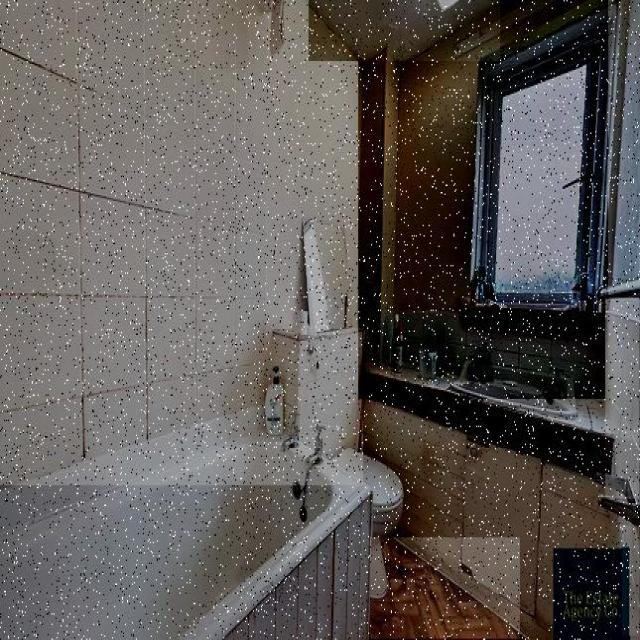Wall: (0, 0, 363, 485), (359, 0, 608, 399), (371, 537, 520, 639), (309, 0, 500, 61), (611, 0, 640, 283), (606, 299, 639, 497), (623, 527, 639, 636)
